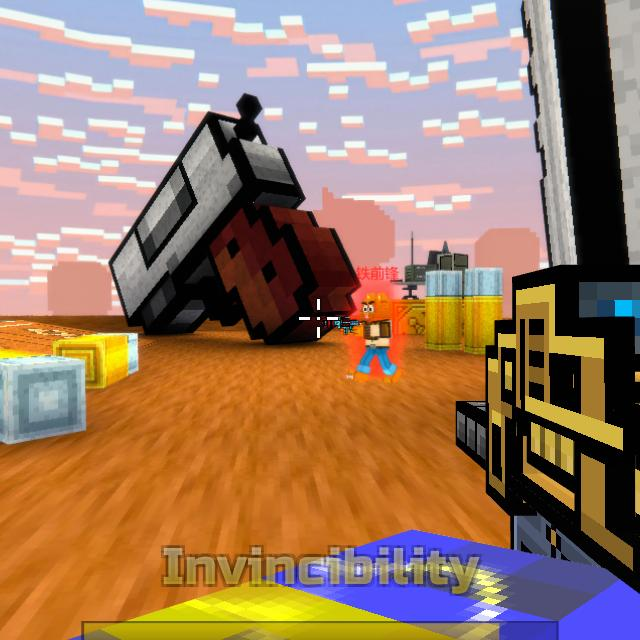Enemy: (346, 293, 396, 382)
